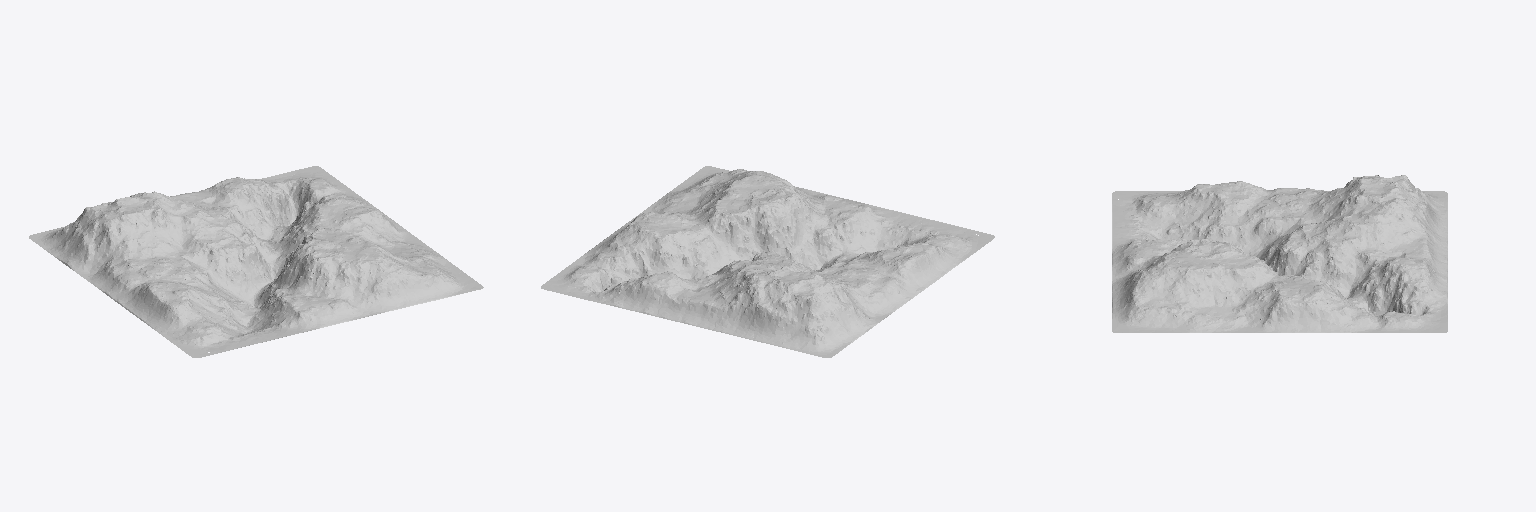
The model's file is mars.obj.
3 views of the same model, side by side, from view 1: azimuth 30°, elevation 25°; view 2: azimuth 150°, elevation 25°; view 3: azimuth 270°, elevation 25° (orthographic).
Parts seen in each view (by area): view 1: mars; view 2: mars; view 3: mars.
Part boxes in pixels (bbox=[...]): mars: bbox=[29, 166, 483, 357]; mars: bbox=[541, 166, 994, 357]; mars: bbox=[1112, 175, 1447, 332].
Bounding box in the file's own units: 22.7 × 5.14 × 22.7.